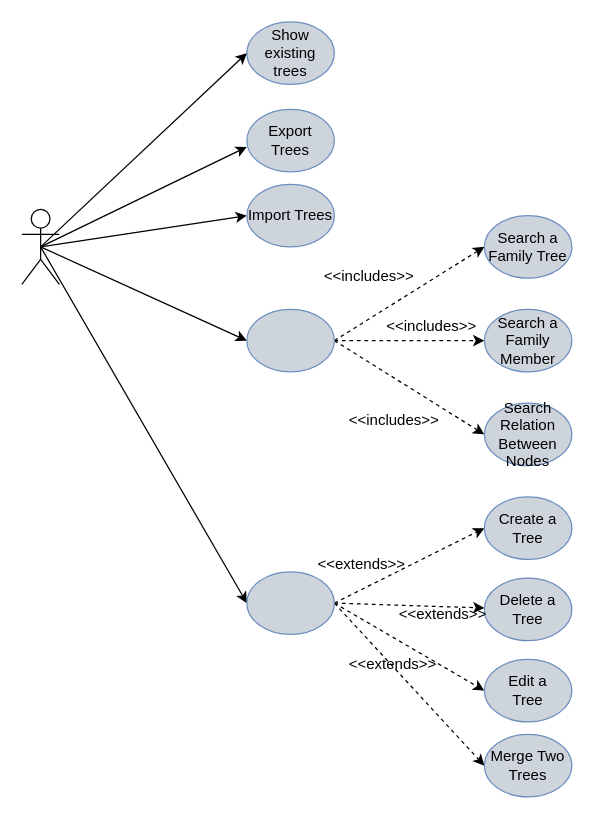
The diagram is 594 pixels wide and 819 high, and some of its shapes have lost their labels. Each missing label, with the centre of its shape:
"Manage Trees" goes at (290,602).
"Search" goes at (290,340).
"User" goes at (40,246).
